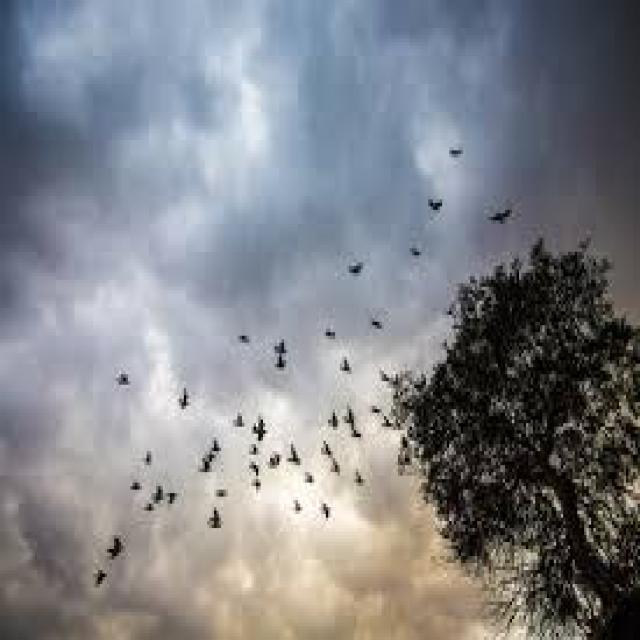bird: (414, 178, 456, 220), (340, 236, 372, 282), (486, 194, 522, 233), (205, 498, 238, 534), (103, 524, 134, 560), (268, 324, 300, 358), (173, 382, 197, 419), (351, 460, 374, 498), (308, 432, 334, 464), (146, 481, 174, 510), (259, 448, 289, 473), (442, 142, 473, 166), (90, 562, 113, 594), (320, 495, 341, 530), (195, 450, 223, 476), (230, 397, 249, 435), (366, 302, 388, 334), (136, 446, 162, 472), (110, 368, 138, 391), (338, 404, 359, 432), (252, 412, 272, 440), (288, 436, 302, 474), (287, 494, 307, 518), (338, 357, 356, 378), (328, 458, 342, 483), (210, 436, 228, 453)
